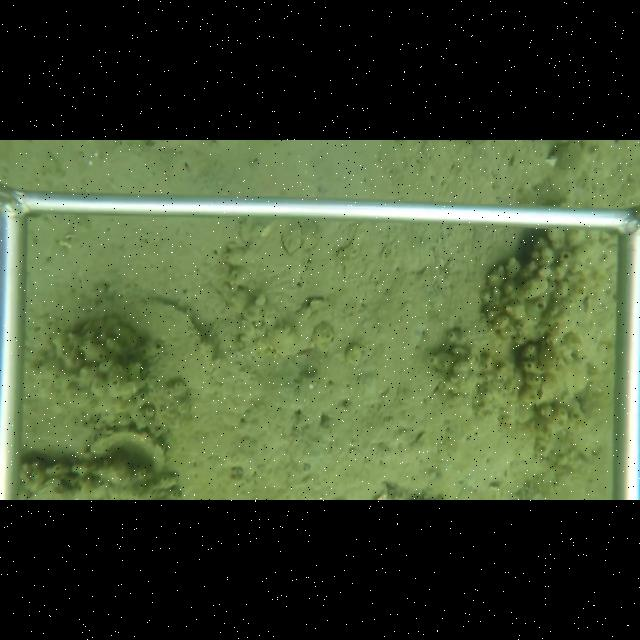Oyster-Closed: (120, 297, 223, 431), (86, 427, 166, 469)
